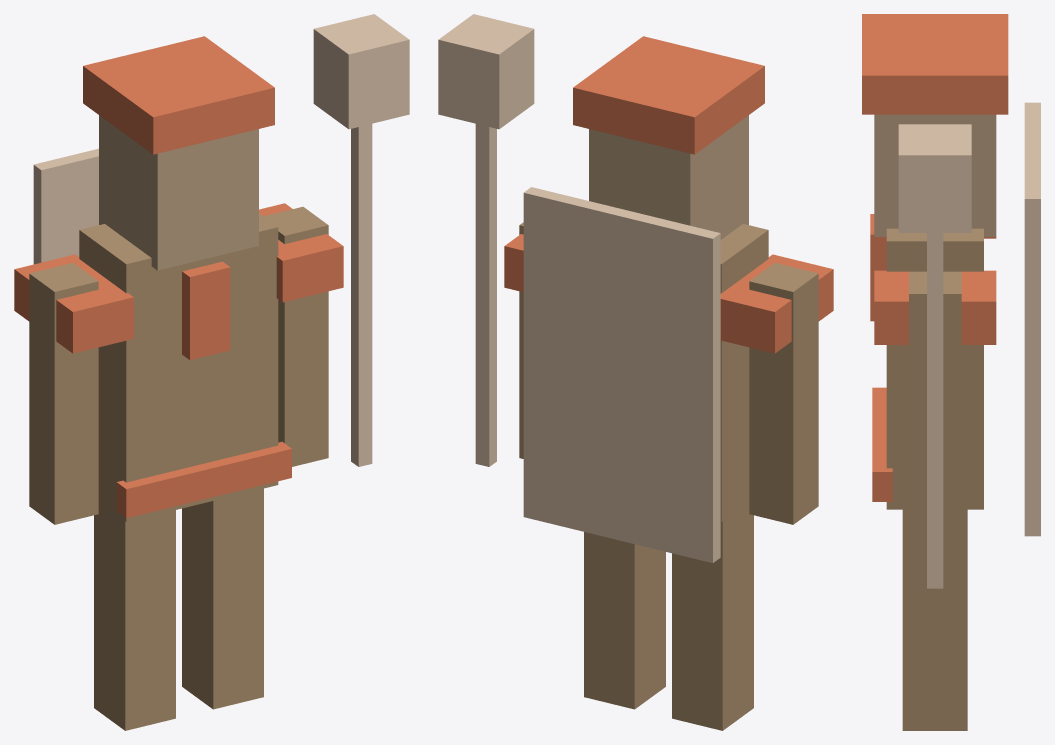
Rendered from 10_noor_deepwell_fixer_at_standing.glb.
3 renders of one model, left to right at view 1: azimuth 30°, elevation 25°; view 2: azimuth 150°, elevation 25°; view 3: azimuth 270°, elevation 25°, orthographic. The views are drawn at different scales.
Visible parts, largest first — view 1: Noor Deepwell, Fixer at Standing; view 2: Noor Deepwell, Fixer at Standing; view 3: Noor Deepwell, Fixer at Standing.
Boxes of the visible parts, box(x1,y1,x2,y2) form: Noor Deepwell, Fixer at Standing: box(14, 14, 409, 730); Noor Deepwell, Fixer at Standing: box(438, 14, 833, 730); Noor Deepwell, Fixer at Standing: box(862, 14, 1040, 730).
Size of the model in its own units: 0.9656 by 1.65 by 0.4105.
